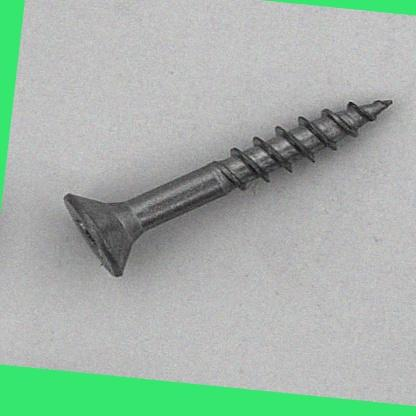metal: (65, 100, 392, 276)
